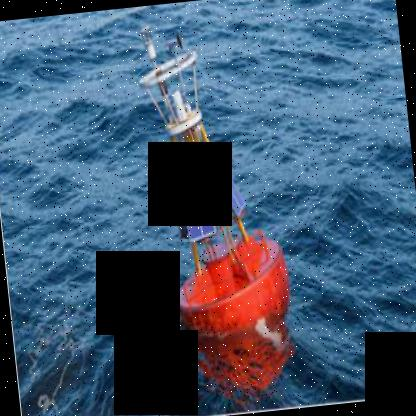Buoy: (133, 43, 296, 357)
